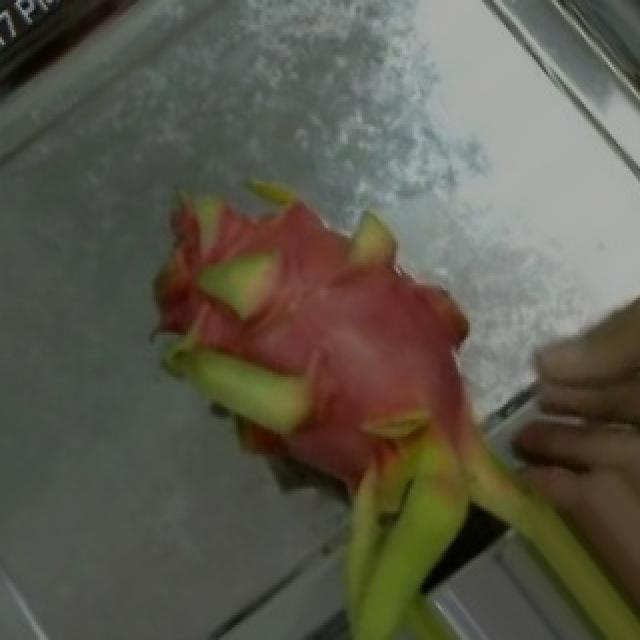fruit: (76, 99, 512, 568)
